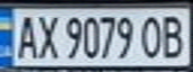0: (81, 12, 100, 60)
7: (97, 12, 118, 60)
9: (60, 12, 84, 60), (115, 12, 139, 60)
A: (12, 11, 39, 60)
B: (157, 11, 190, 60)
O: (136, 12, 166, 60)
X: (33, 11, 60, 61)
